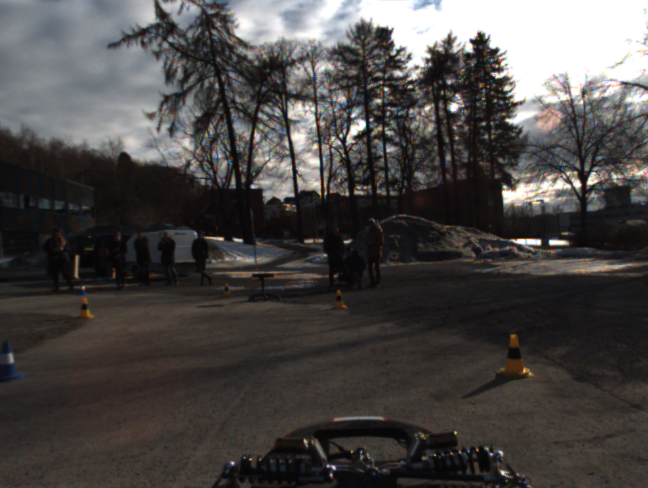cone-small-blue: (1, 341, 21, 380), (78, 283, 88, 295)
cone-small-yellow: (498, 337, 530, 377), (77, 293, 93, 318), (333, 292, 346, 310), (222, 282, 232, 296)
